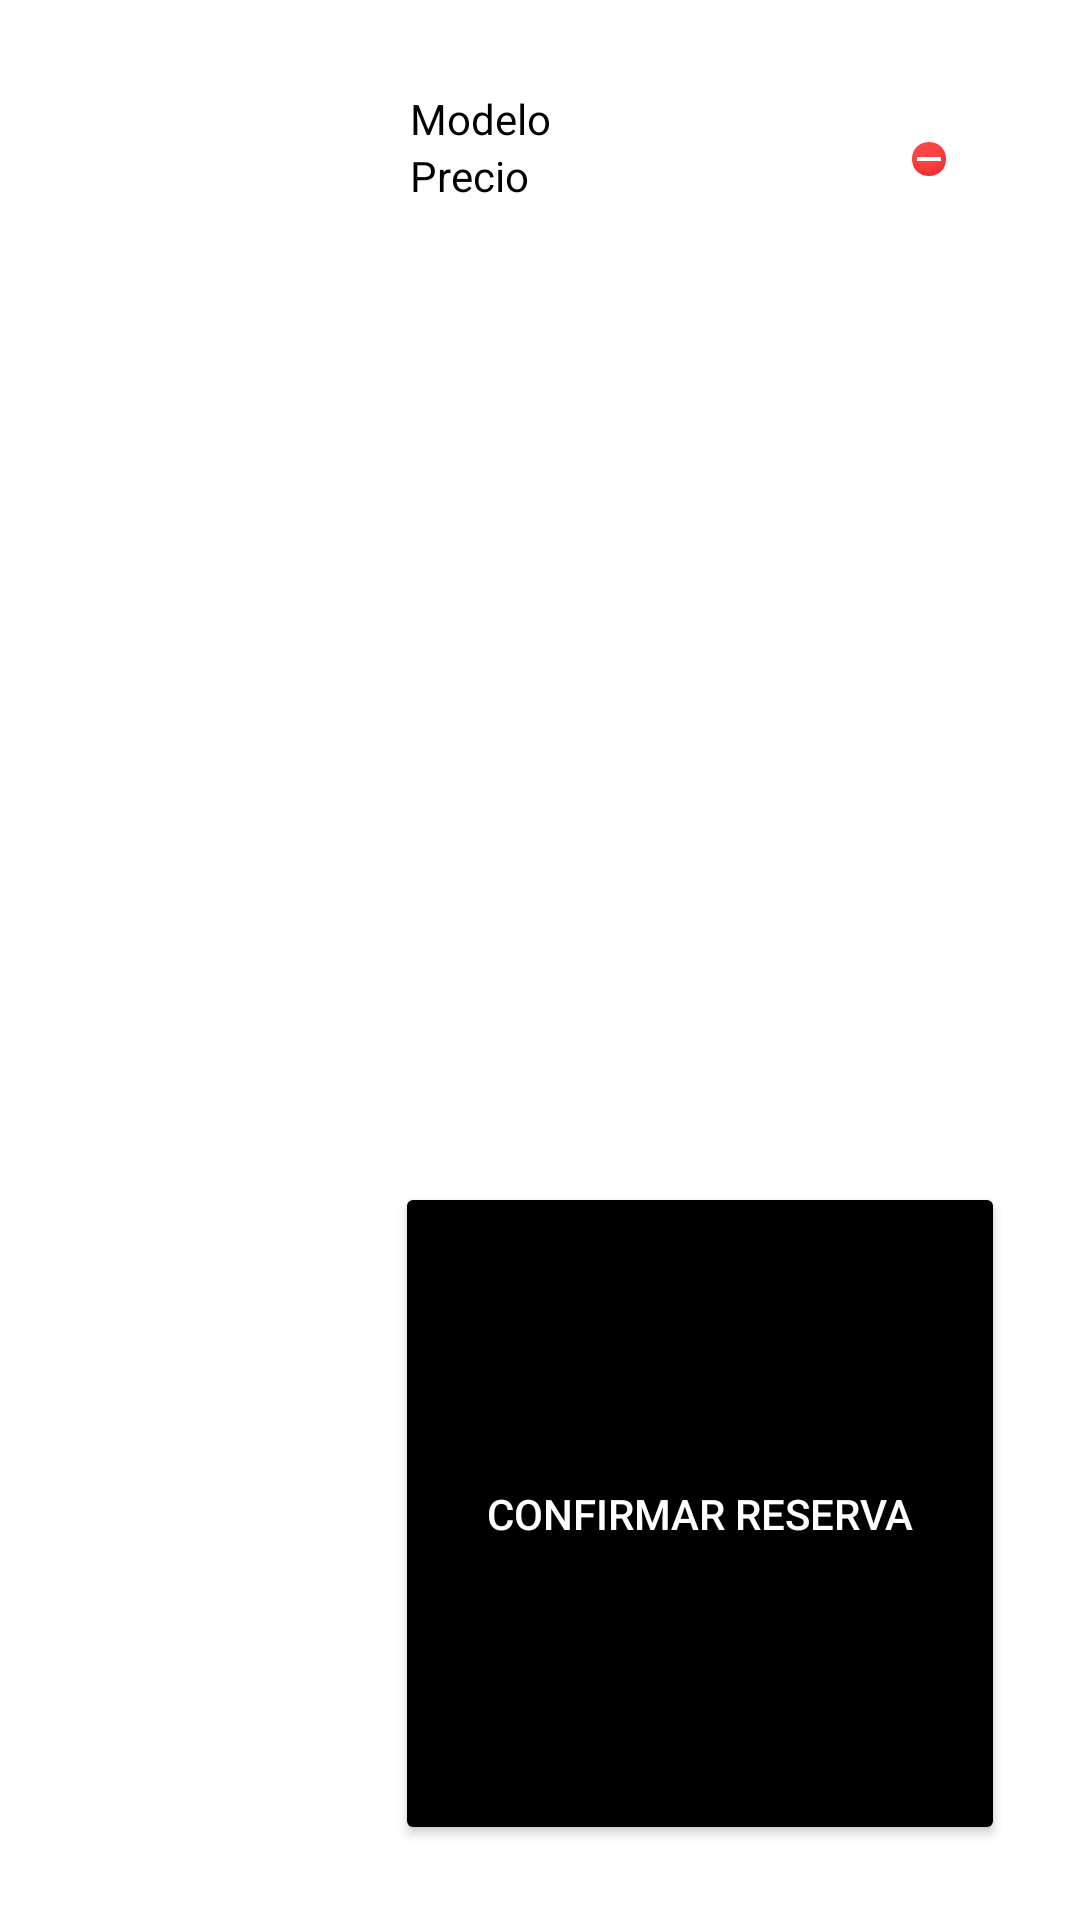

Icon bounding boxes for this 1080px×1920px phone screenshot, format {"left": x1, "top": y1, "right": x2, "bottom": y2}:
presence busy: {"left": 912, "top": 142, "right": 946, "bottom": 176}
